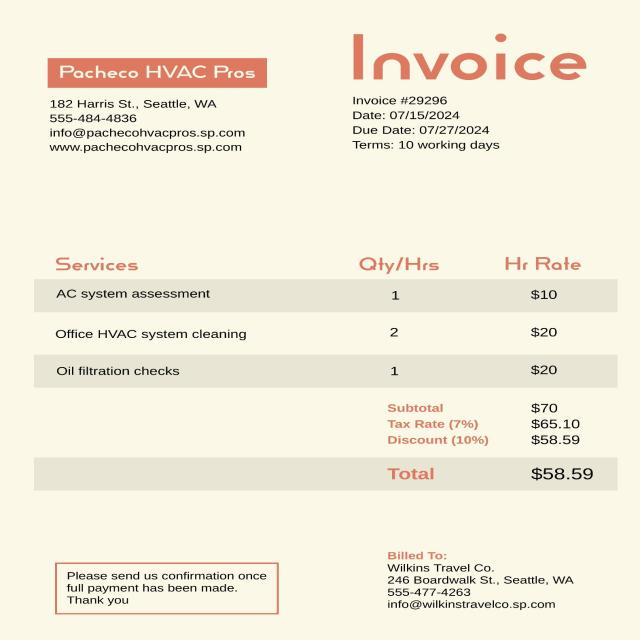paragraph: (32, 49, 282, 160), (382, 396, 613, 491), (382, 542, 595, 622), (338, 22, 601, 84), (58, 563, 279, 620), (344, 90, 512, 159)
table: (35, 242, 617, 388)
